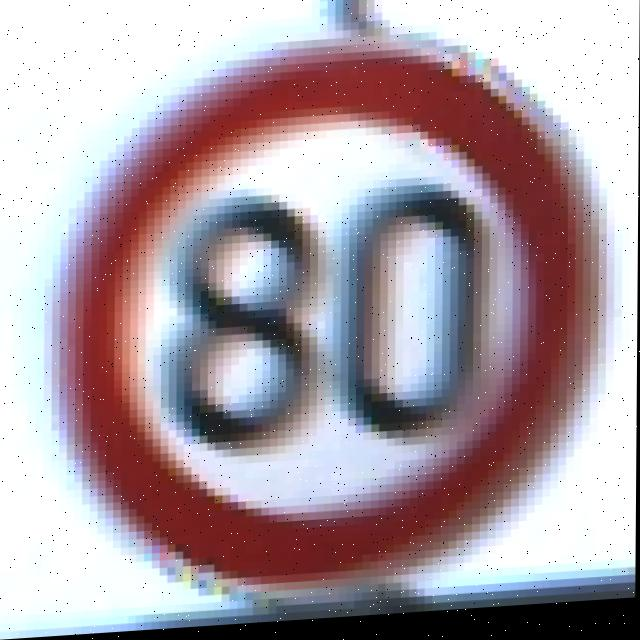speed_limit_80: (62, 0, 551, 613)
